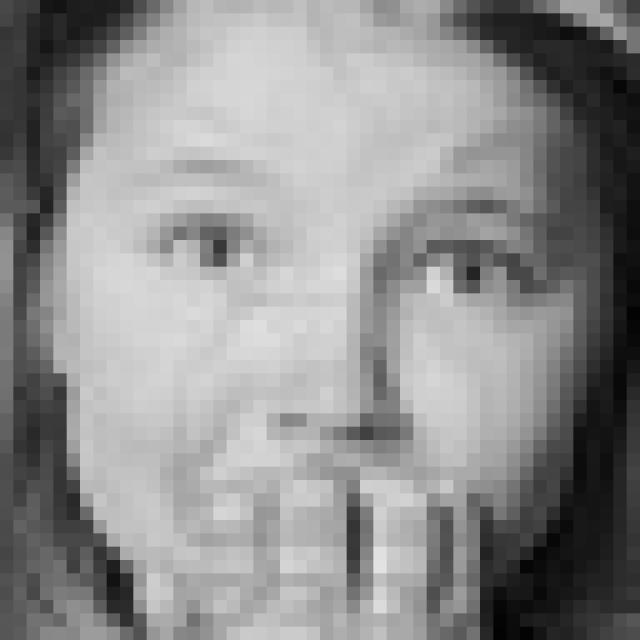fear: (116, 153, 569, 597)
